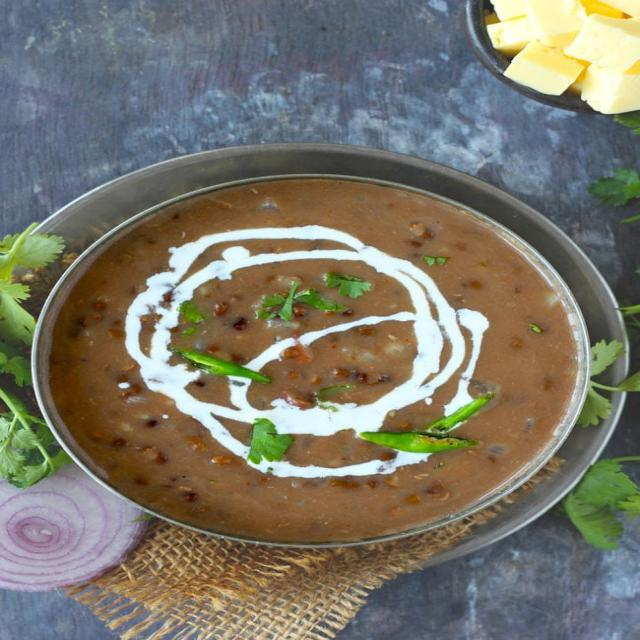dal_makhani: (38, 177, 592, 558)
